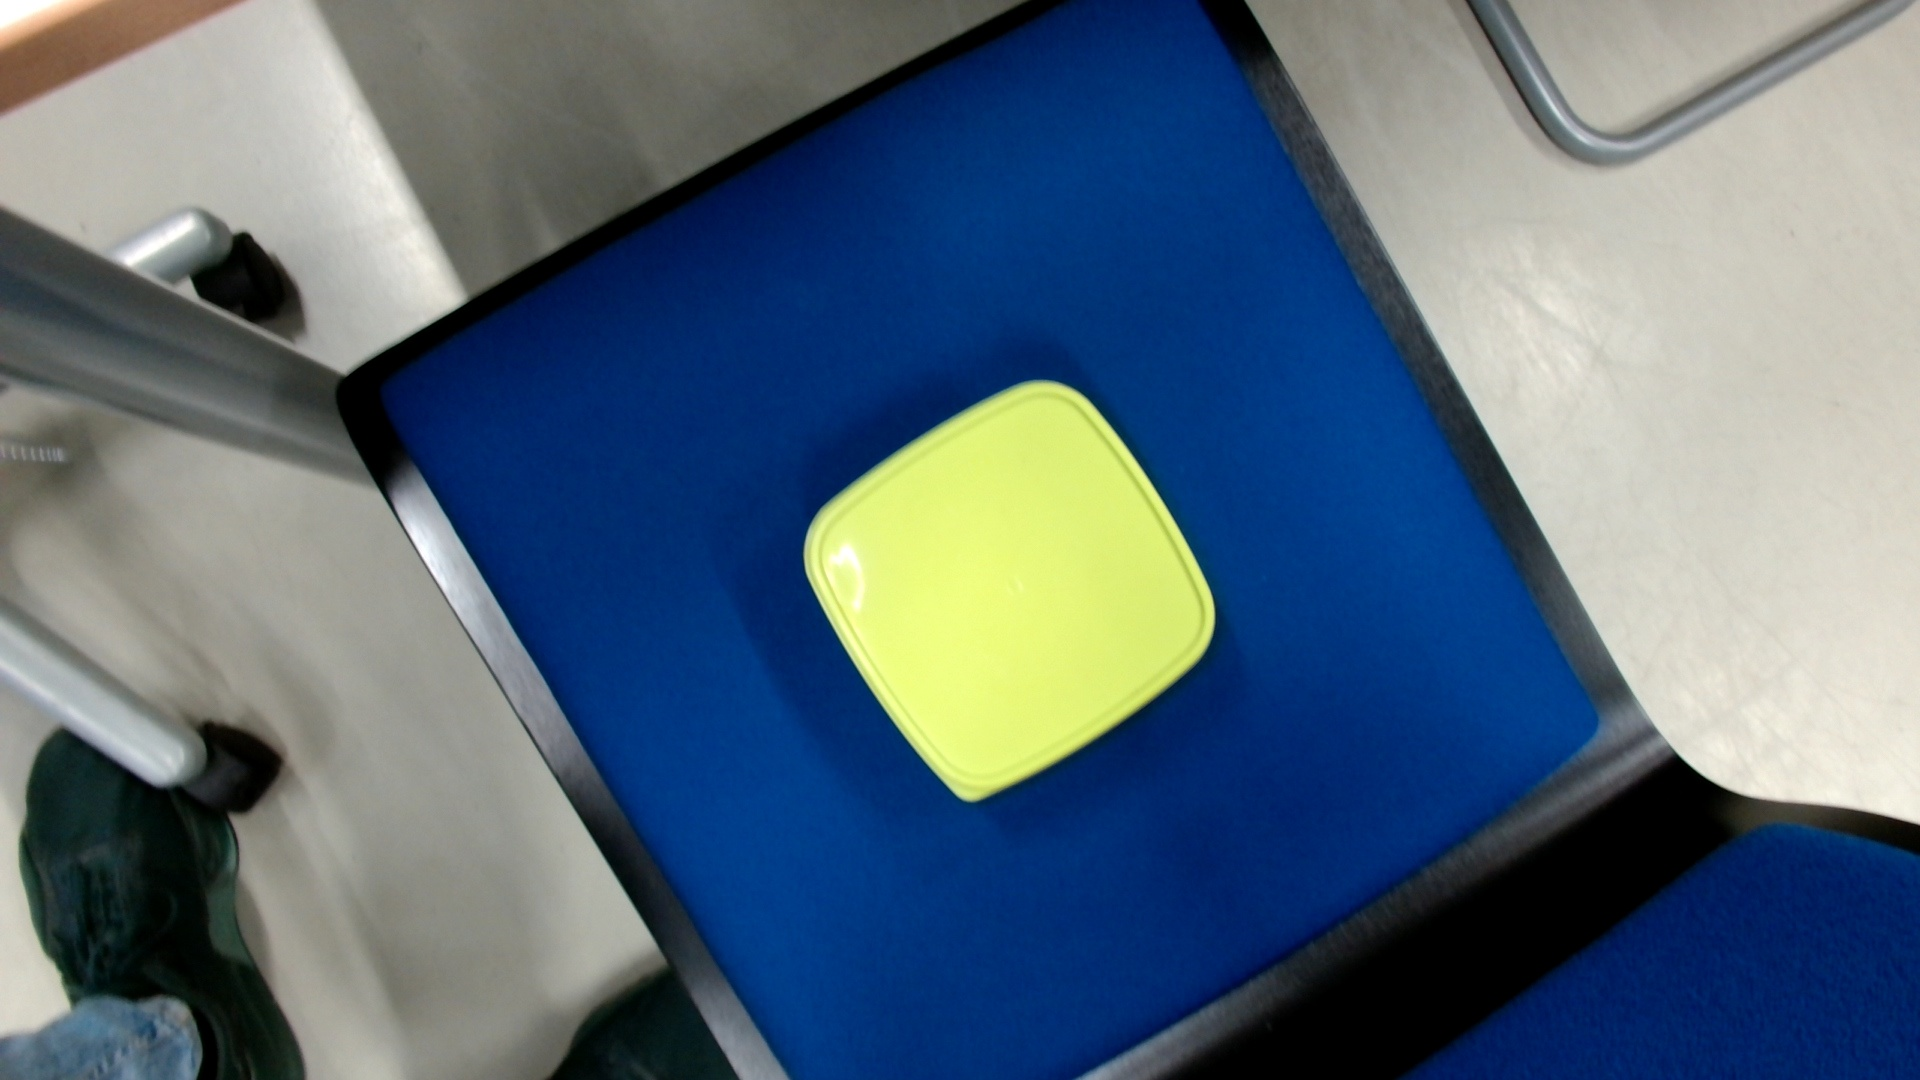Box: (789, 368, 1225, 808)
